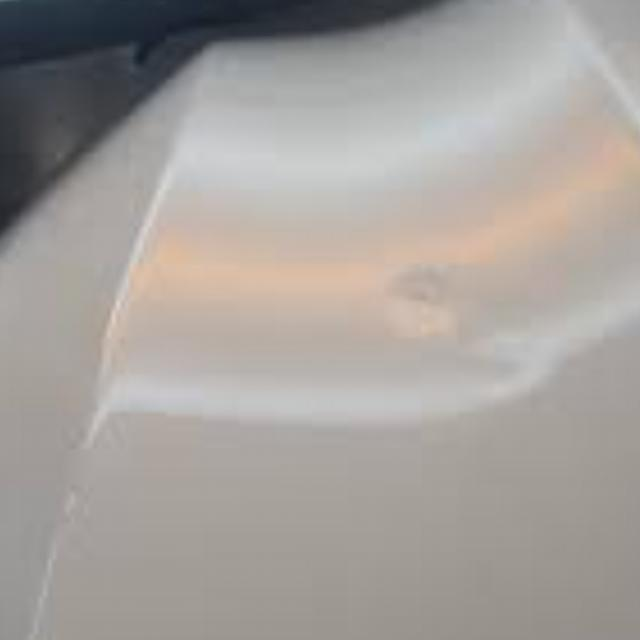dents: (398, 258, 481, 354)
